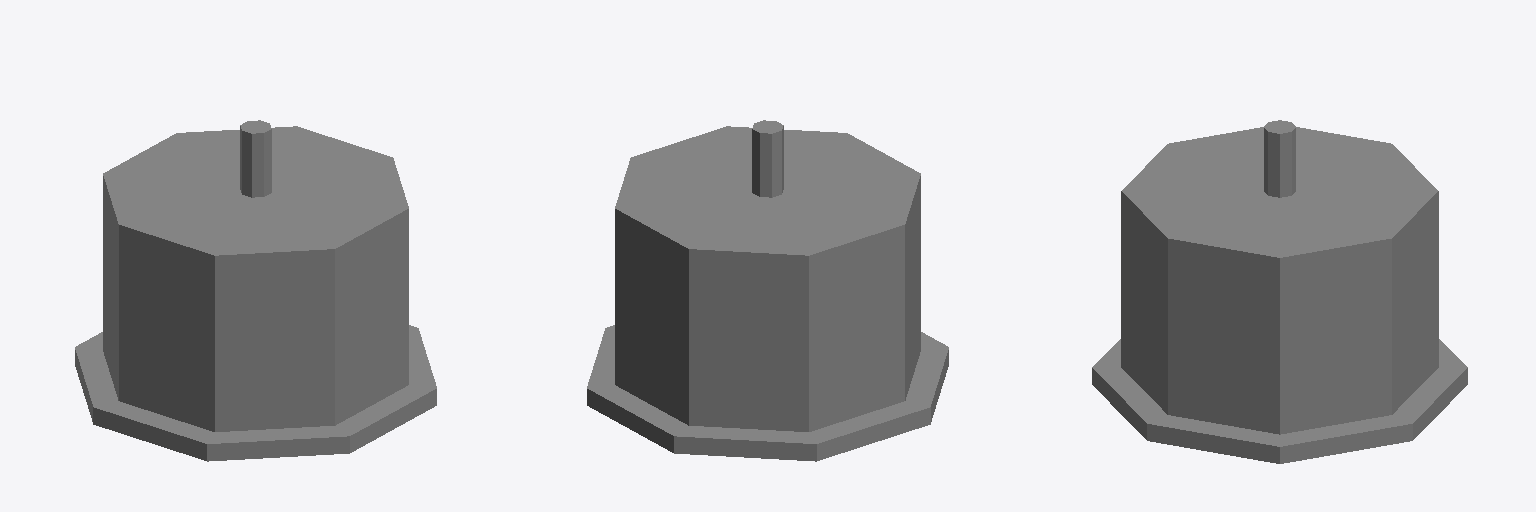
File: pastel.obj
The picture shows the model from 3 angles: view 1: azimuth 30°, elevation 25°; view 2: azimuth 150°, elevation 25°; view 3: azimuth 270°, elevation 25°; orthographic projection.
Parts seen in each view (by area): view 1: pastel; view 2: pastel; view 3: pastel.
Part boxes in pixels (bbox=[...]): pastel: bbox=[75, 120, 436, 461]; pastel: bbox=[587, 120, 948, 461]; pastel: bbox=[1092, 120, 1467, 463].
Size of the model in its own units: 38.78 by 29.39 by 38.78.